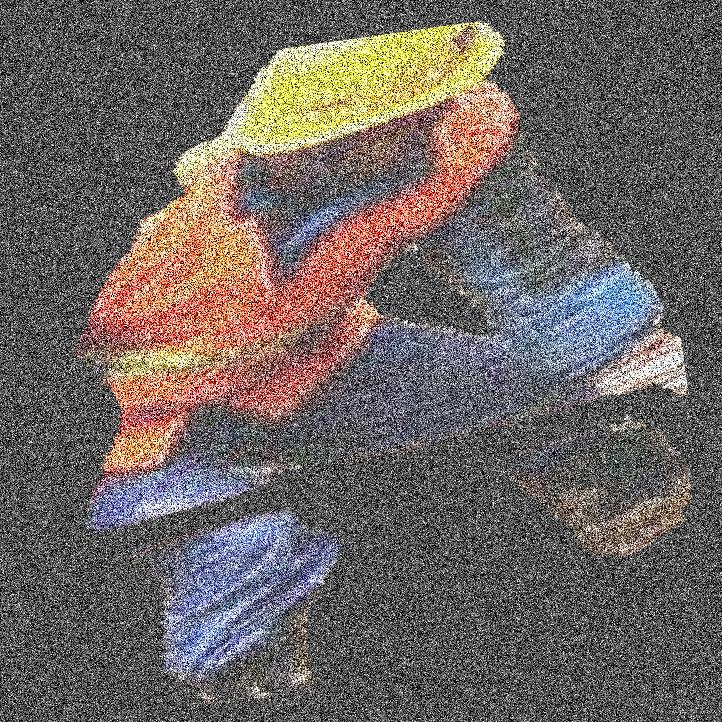Pessoa: (124, 0, 290, 721)
